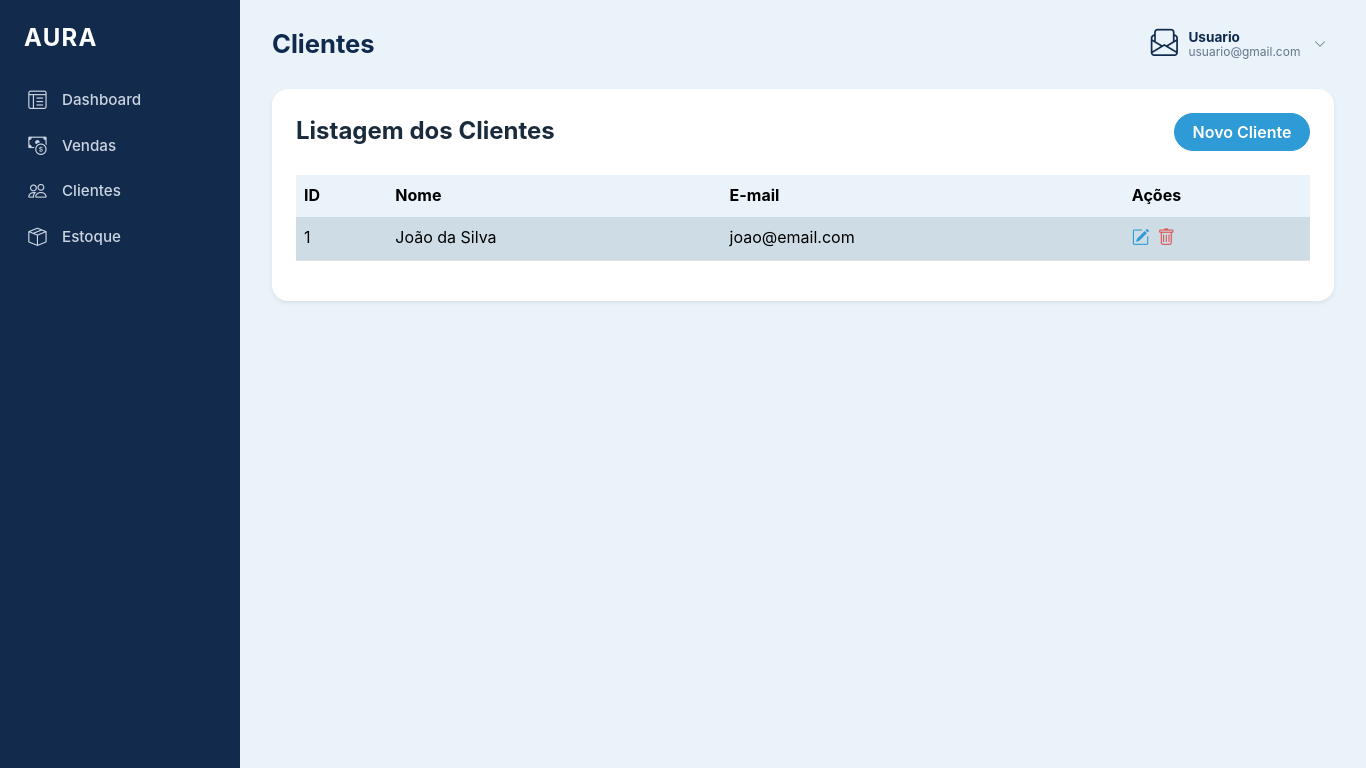
Page Cliente › deve exibir mensagem de erro quando a exclusão falhar
Check: the text "João da Silva" is shown, box x1=387 y1=216 x2=722 y2=260
Click the button titled "Excluir" at (1166, 238), box x1=1157 y1=225 x2=1175 y2=252
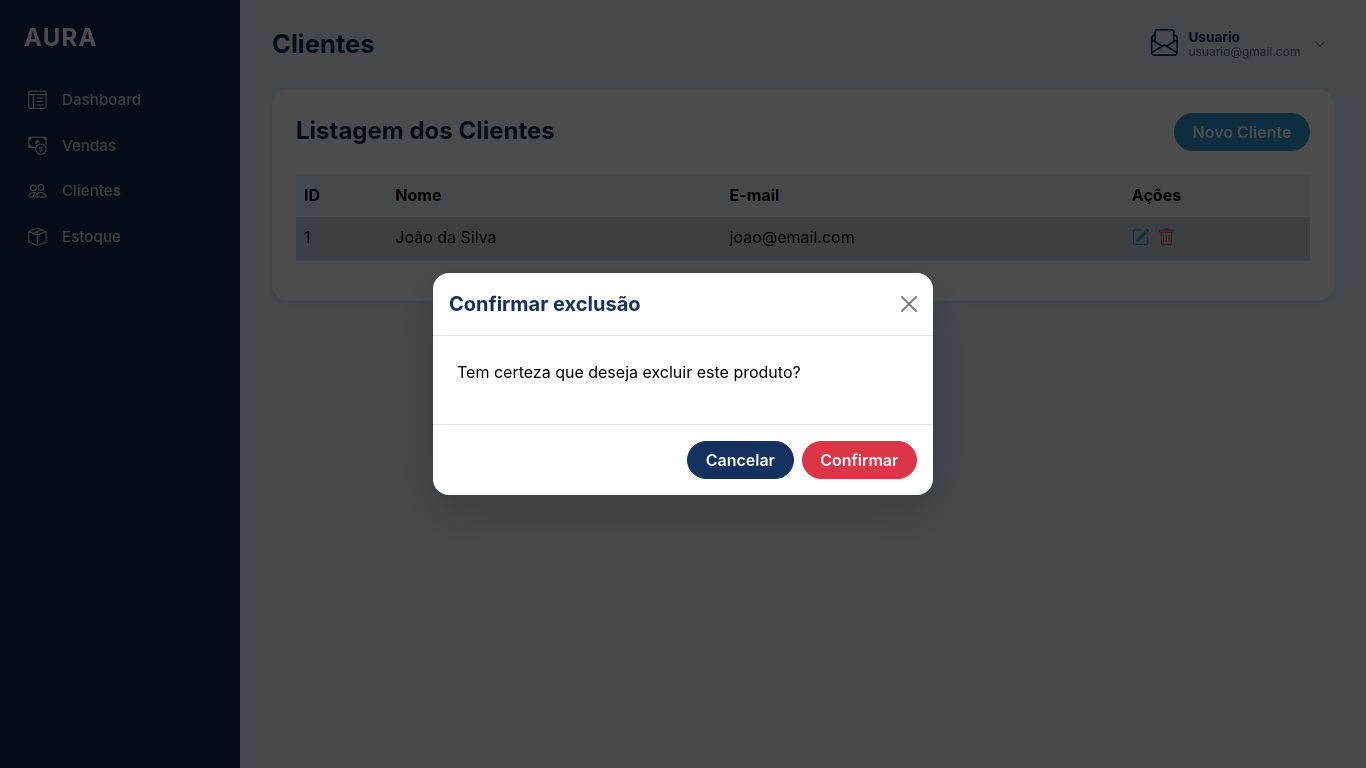
Check: the heading "Confirmar exclusão" is shown, box x1=449 y1=289 x2=640 y2=319
Click the button "Confirmar" at (859, 460), box x1=802 y1=441 x2=917 y2=479
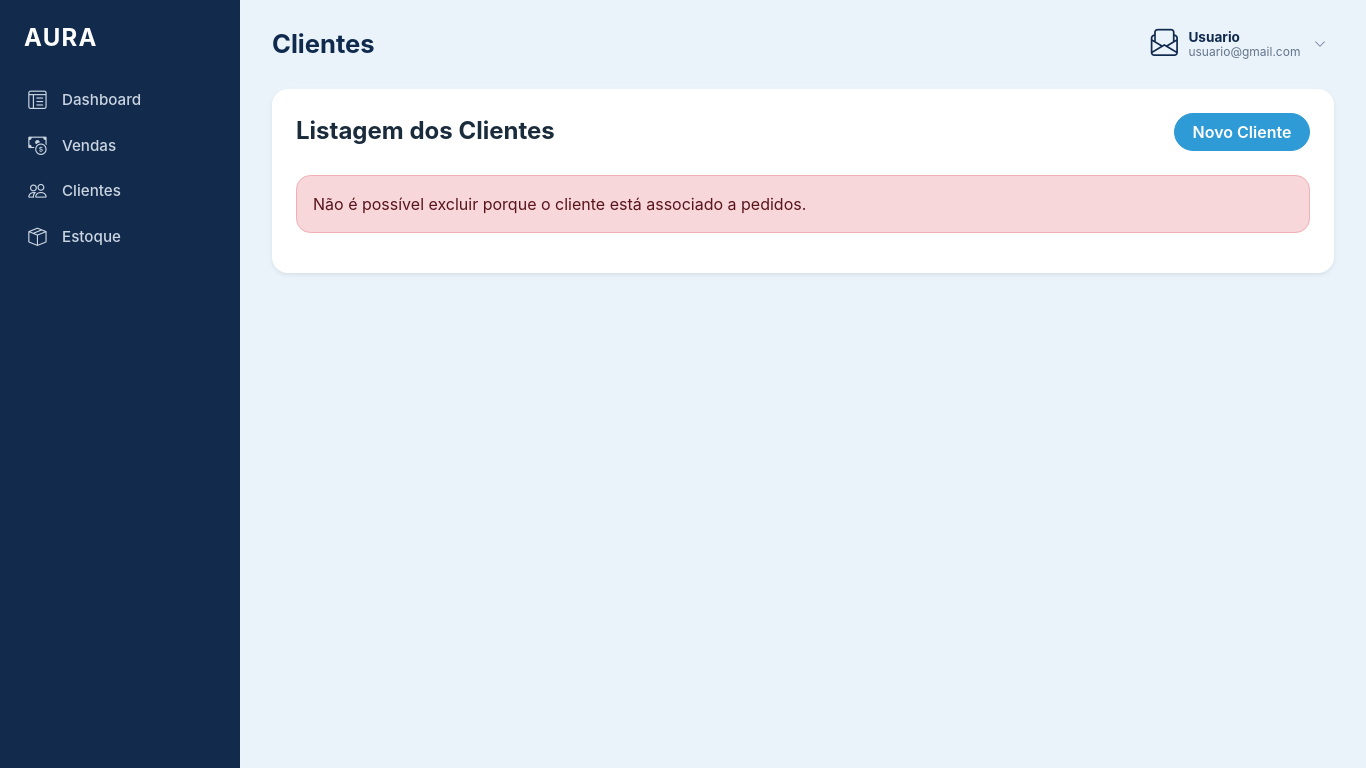
Check: the text "Não é possível excluir porque o cliente está associado a pedidos." is shown, box x1=296 y1=175 x2=1310 y2=233
